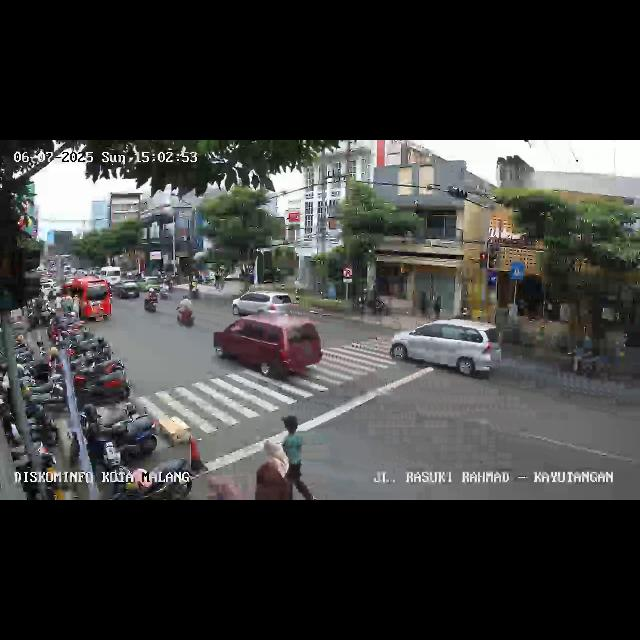car: (214, 316, 322, 384), (394, 317, 502, 381), (61, 279, 112, 323), (232, 290, 292, 318), (113, 278, 141, 302)
motorcycle: (570, 335, 630, 389), (174, 295, 196, 329), (144, 286, 158, 314), (158, 276, 172, 300)
person: (280, 414, 318, 500), (254, 436, 292, 499)
